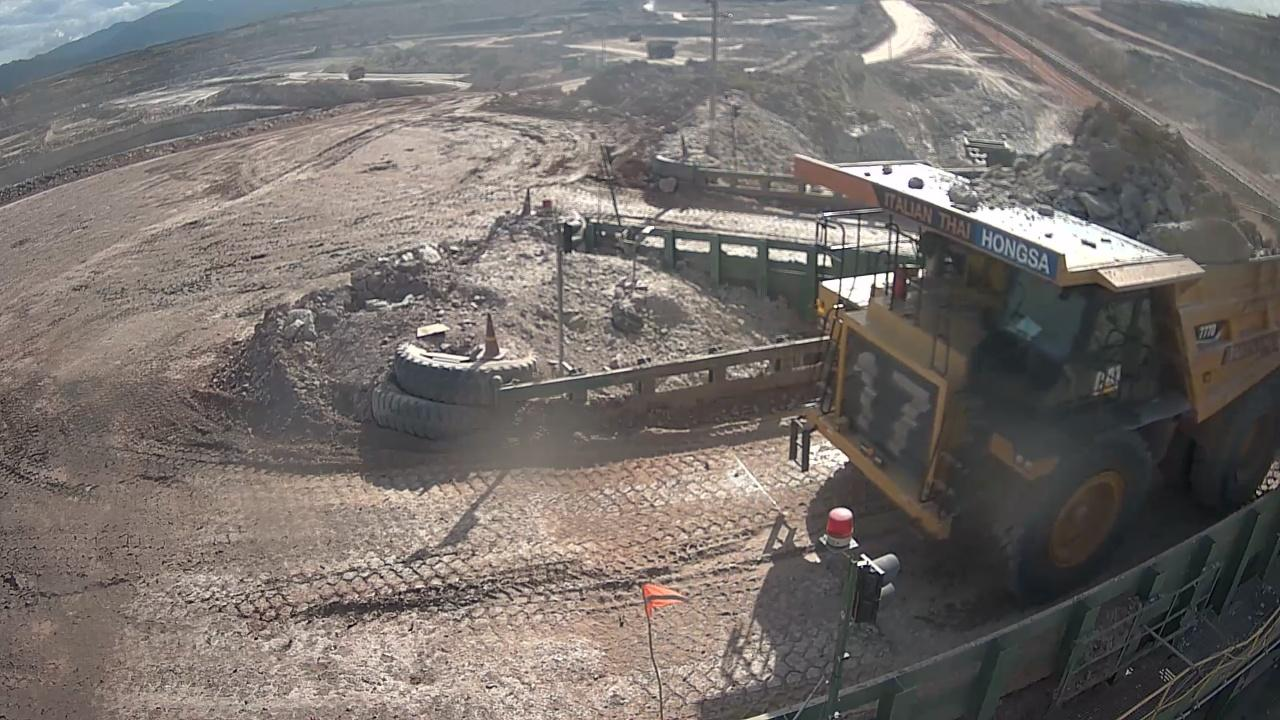front_number: (842, 340, 936, 479)
mining_truck: (785, 151, 1278, 604)
